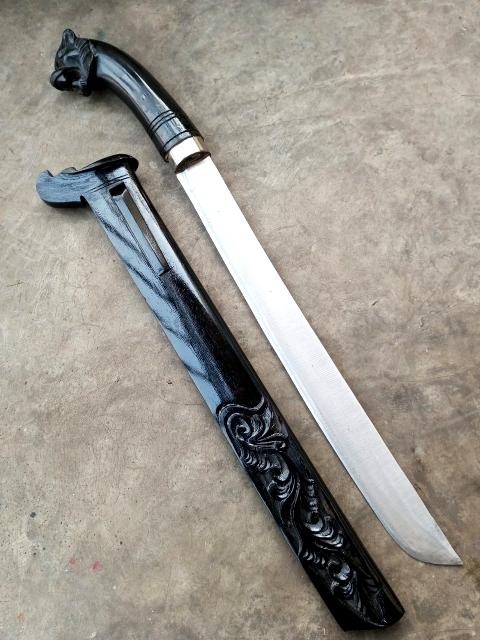long knife: (48, 28, 466, 566)
